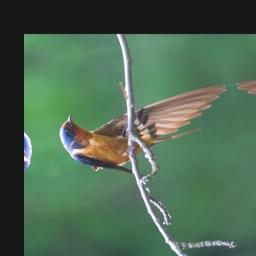Swallow: (50, 82, 247, 189)
